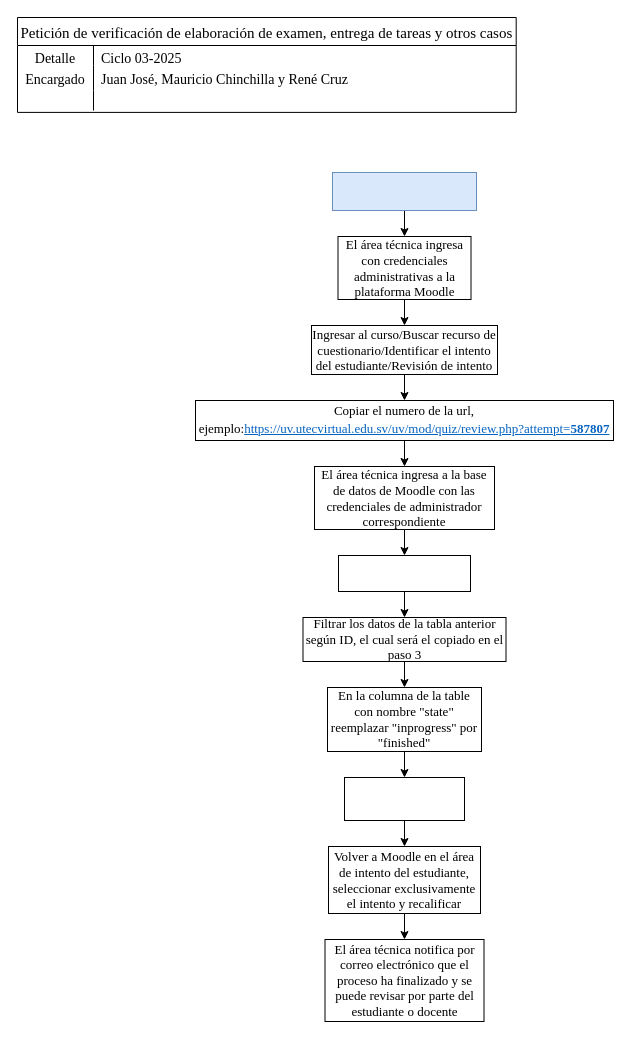
The diagram is 631 pixels wide and 1039 high, and some of its shapes have lost their labels. Here are the shapes that lost their labels. From the top down, the centre of each, then its label:
point (404, 191): Entrega de examen con estado "InProgress"
point (404, 573): Buscar la tabla de nombre: quiz_attempts
point (404, 798): Guardar los cambios en la base de datos
